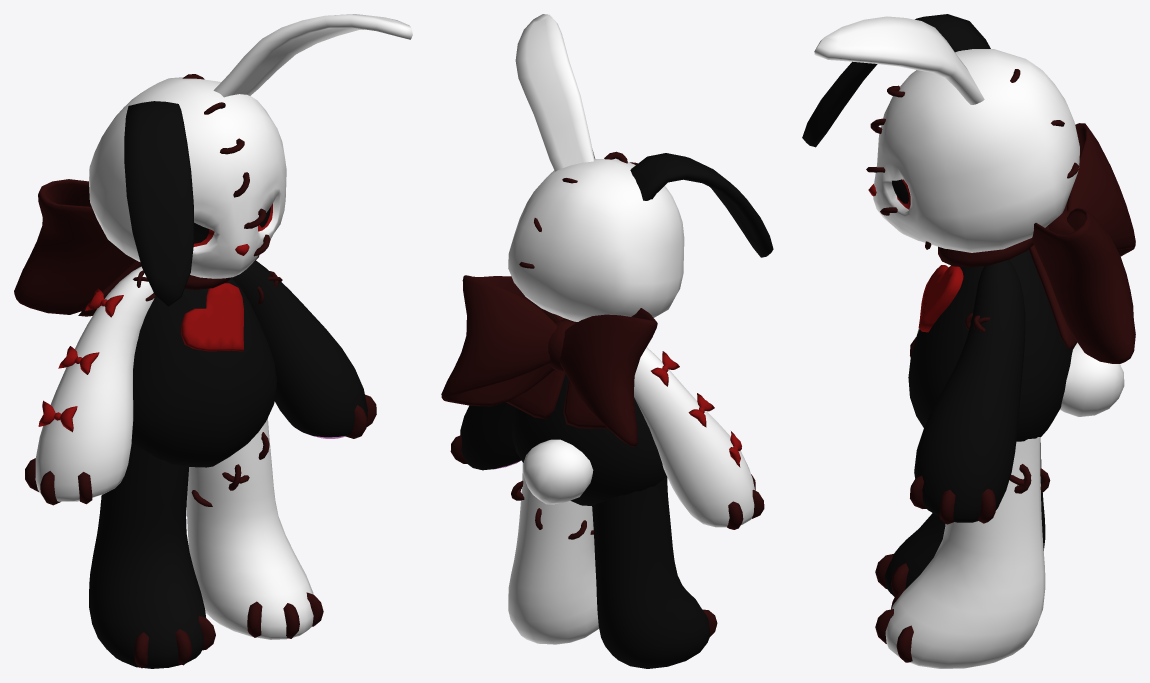
The model's file is Boss_Weapon_Model.FBX.
3 renders of one model, left to right at view 1: azimuth 30°, elevation 25°; view 2: azimuth 150°, elevation 25°; view 3: azimuth 270°, elevation 25°, orthographic. The views are drawn at different scales.
Visible parts, largest first — view 1: Riris_Boss_Weapon; view 2: Riris_Boss_Weapon; view 3: Riris_Boss_Weapon.
Boxes of the visible parts, x1,y1,x2,y2 form: Riris_Boss_Weapon: (14,14,412,668); Riris_Boss_Weapon: (441,14,773,668); Riris_Boss_Weapon: (802,14,1135,668).
Bounding box in the file's own units: 127 × 105 × 228.
